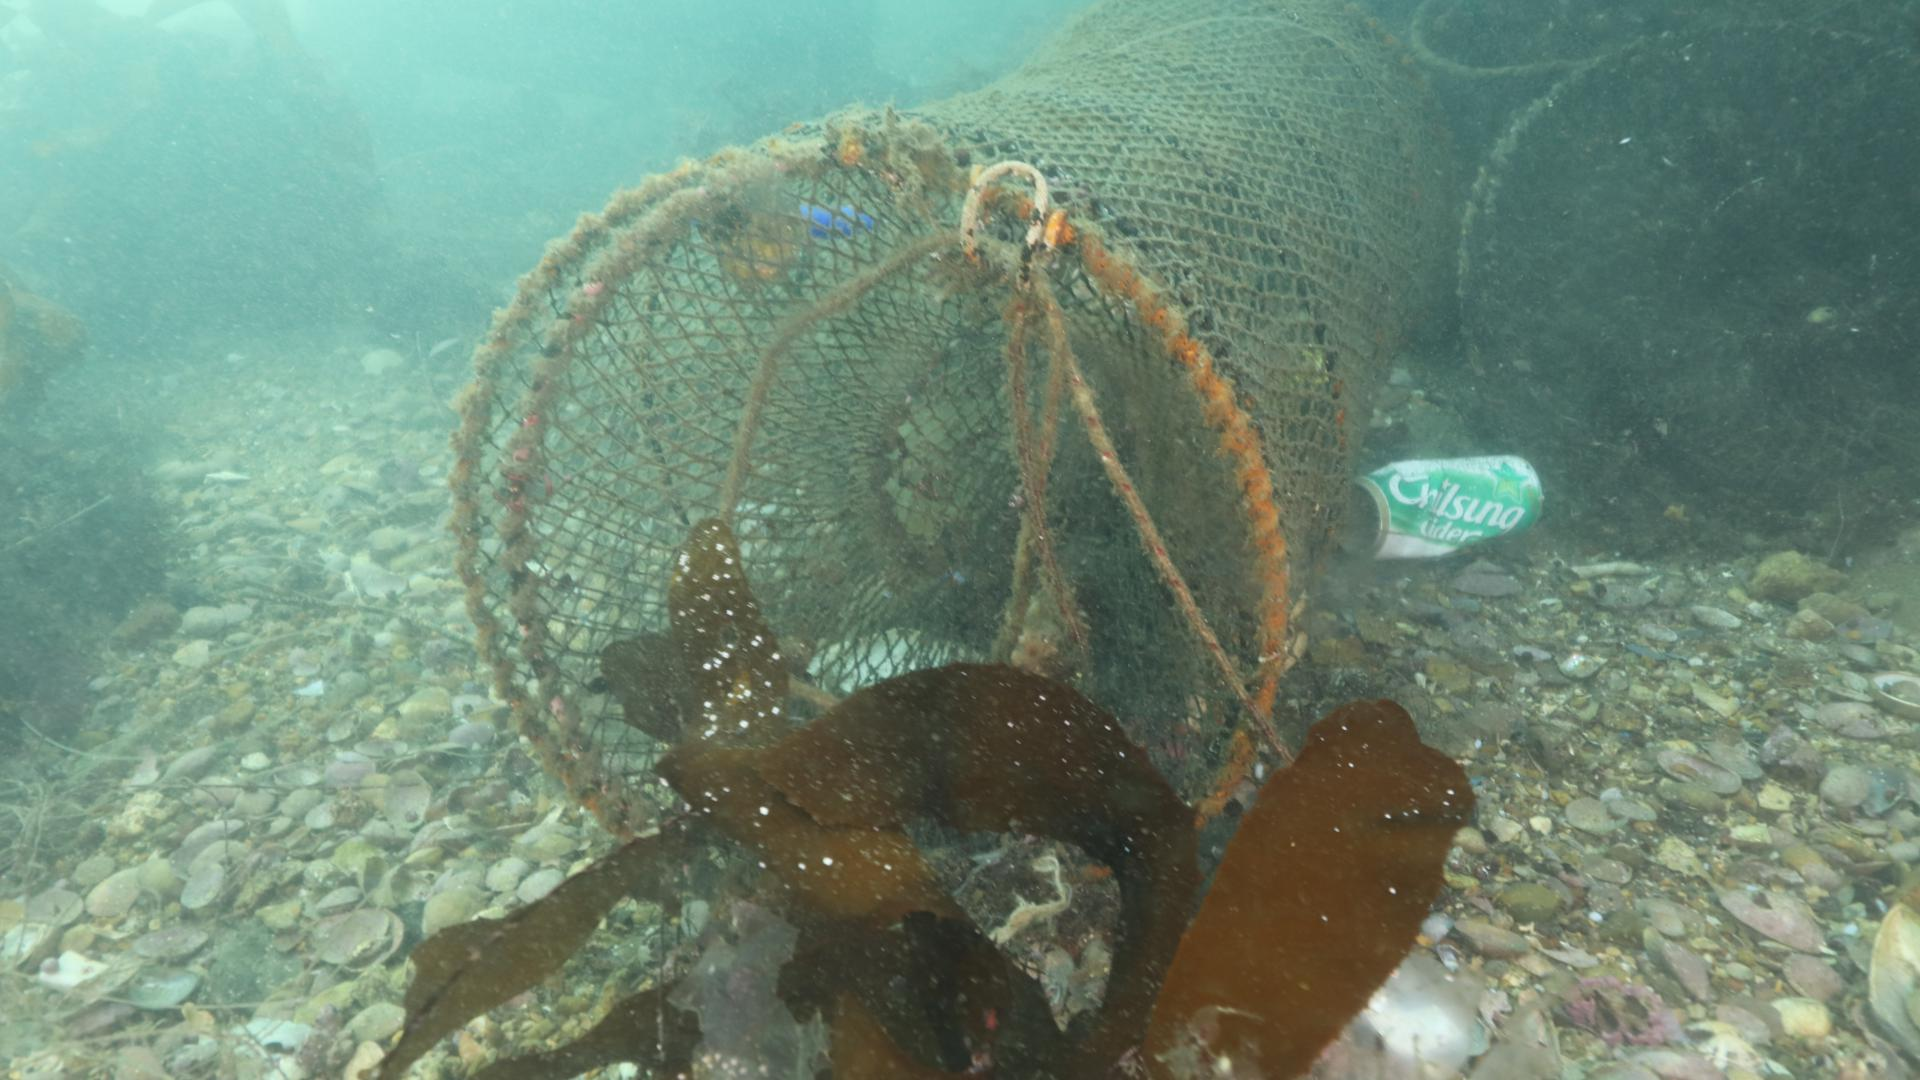spring fish trap: (444, 3, 1462, 905)
